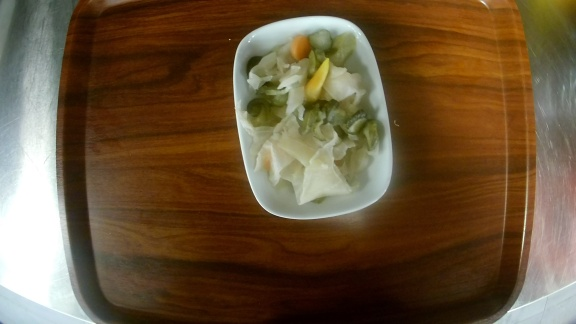tursu: (233, 15, 393, 220)
